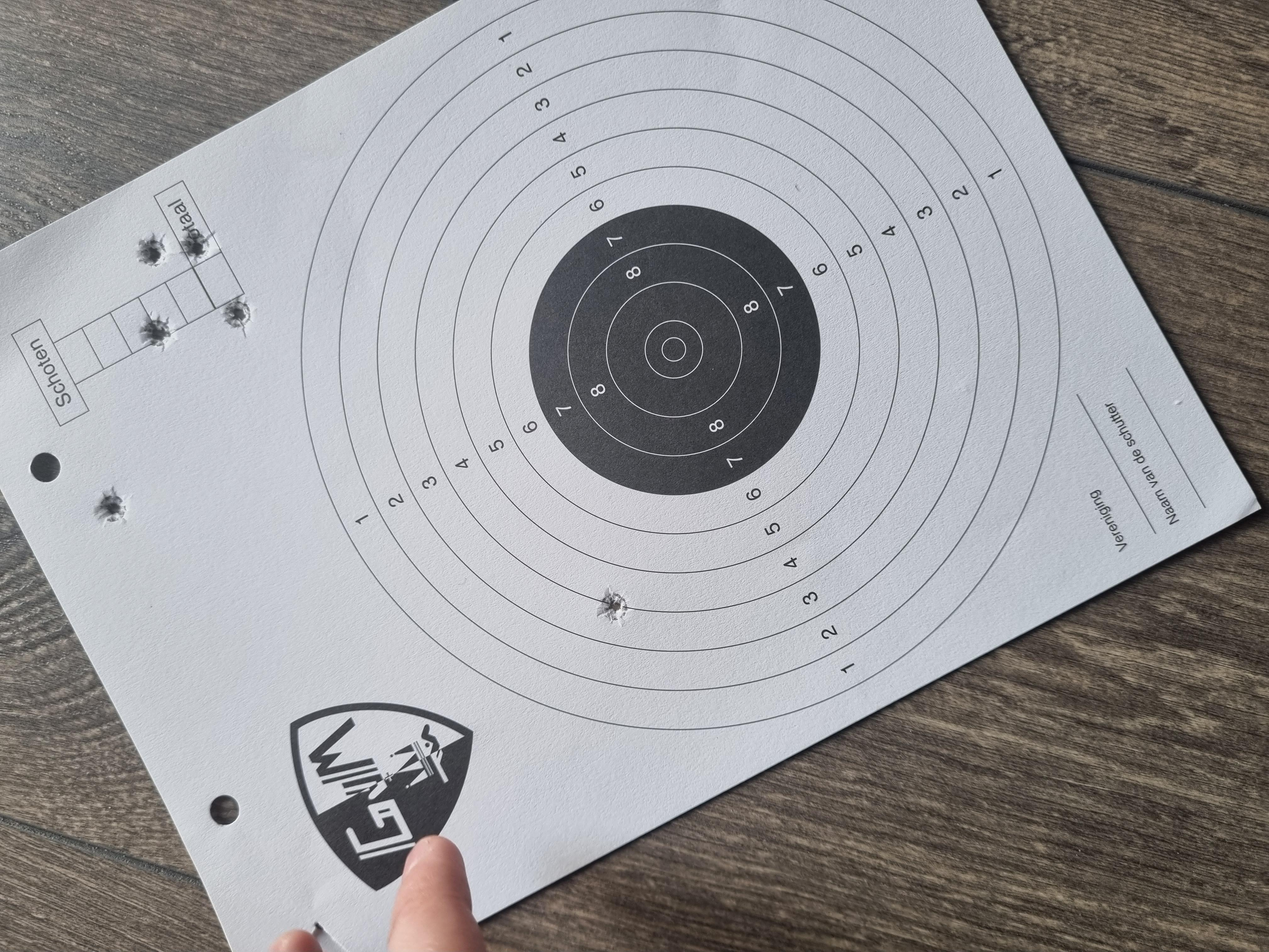hole: (564, 68, 618, 97), (431, 447, 482, 475), (800, 104, 847, 130), (826, 167, 876, 191), (916, 136, 964, 160), (913, 100, 958, 125)
